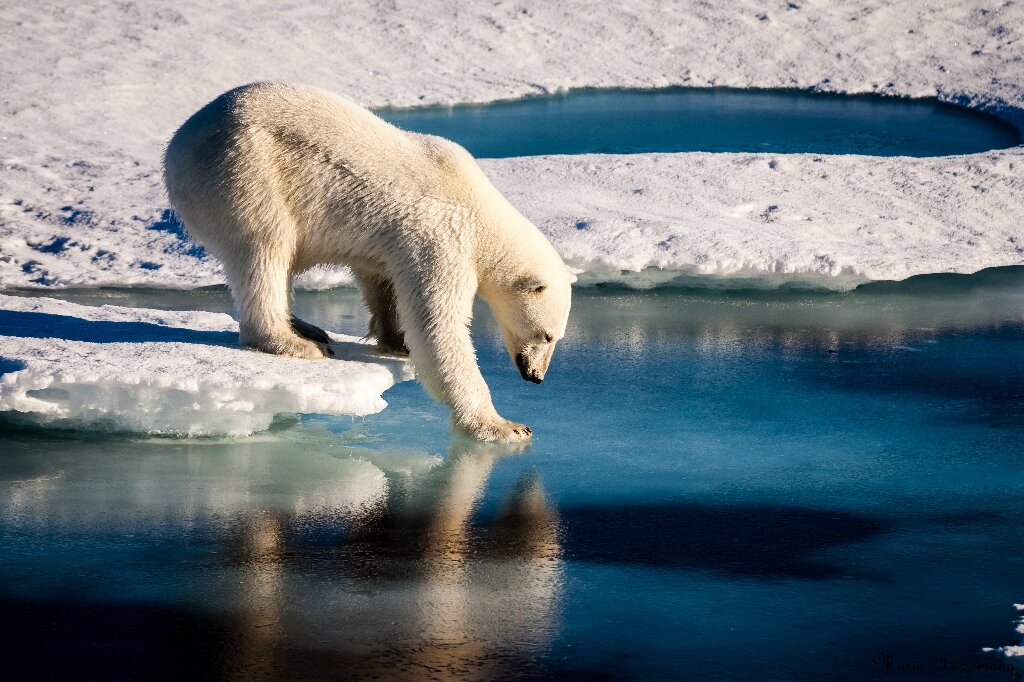PolarBear: (151, 66, 587, 454)
